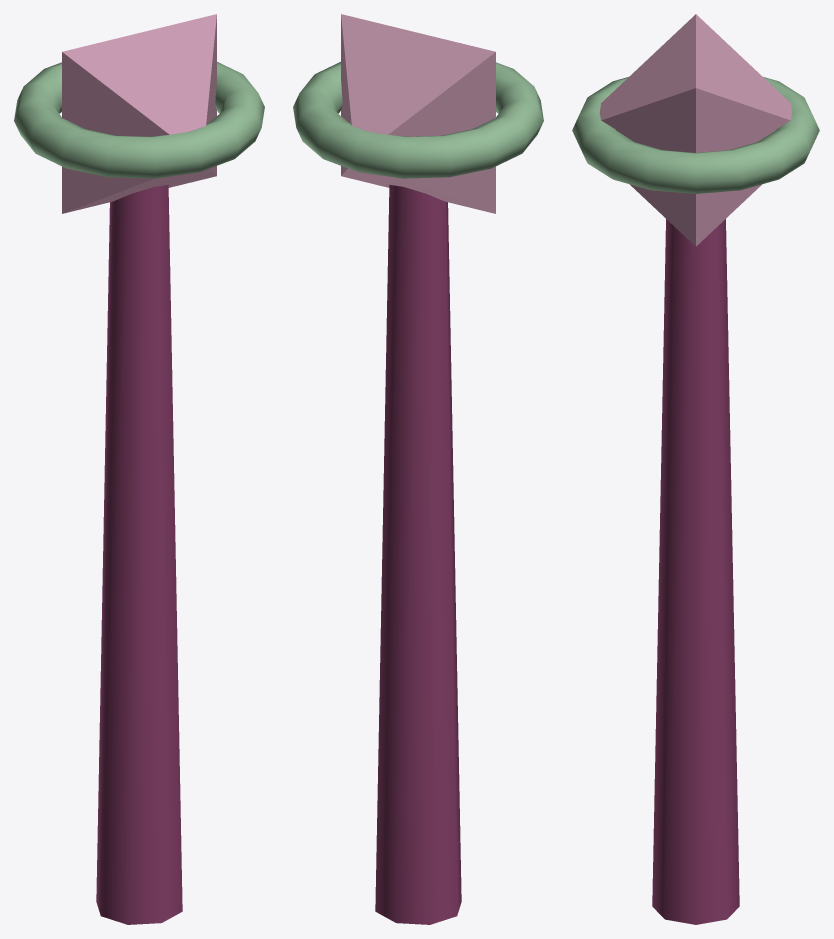
The model's file is spore_lantern.glb.
The picture shows the model from 3 angles, left to right: view 1: azimuth 30°, elevation 25°; view 2: azimuth 150°, elevation 25°; view 3: azimuth 270°, elevation 25°; orthographic projection. The views are drawn at different scales.
Parts seen in each view (by area): view 1: post, light, ring; view 2: post, light, ring; view 3: post, light, ring.
Boxes of the visible parts, bbox=[...] form: post: bbox=[96, 184, 182, 924]; light: bbox=[62, 14, 216, 213]; ring: bbox=[14, 62, 264, 178]; post: bbox=[375, 184, 461, 924]; light: bbox=[341, 14, 495, 213]; ring: bbox=[293, 62, 543, 178]; post: bbox=[652, 219, 739, 924]; light: bbox=[599, 14, 792, 246]; ring: bbox=[572, 77, 819, 193].
Size of what is drawn, in the model's own units: 0.68 by 2.59 by 0.68.
